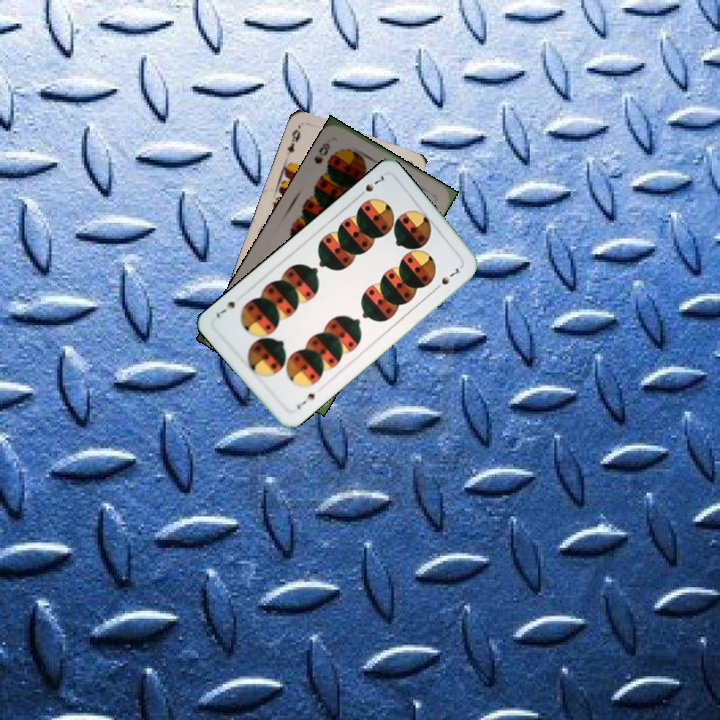E9: (283, 123, 303, 158)
S7: (353, 171, 387, 200), (293, 389, 318, 412)
S8: (310, 139, 333, 167)
